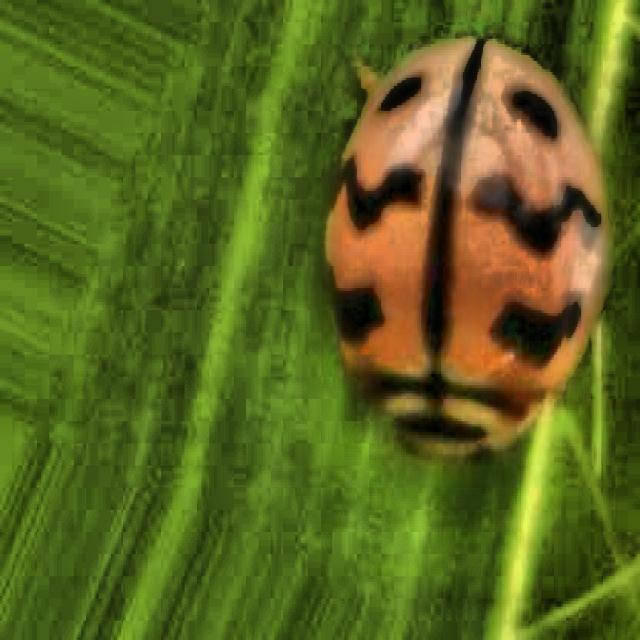Asian-Lady-beetle: (264, 17, 640, 640)
